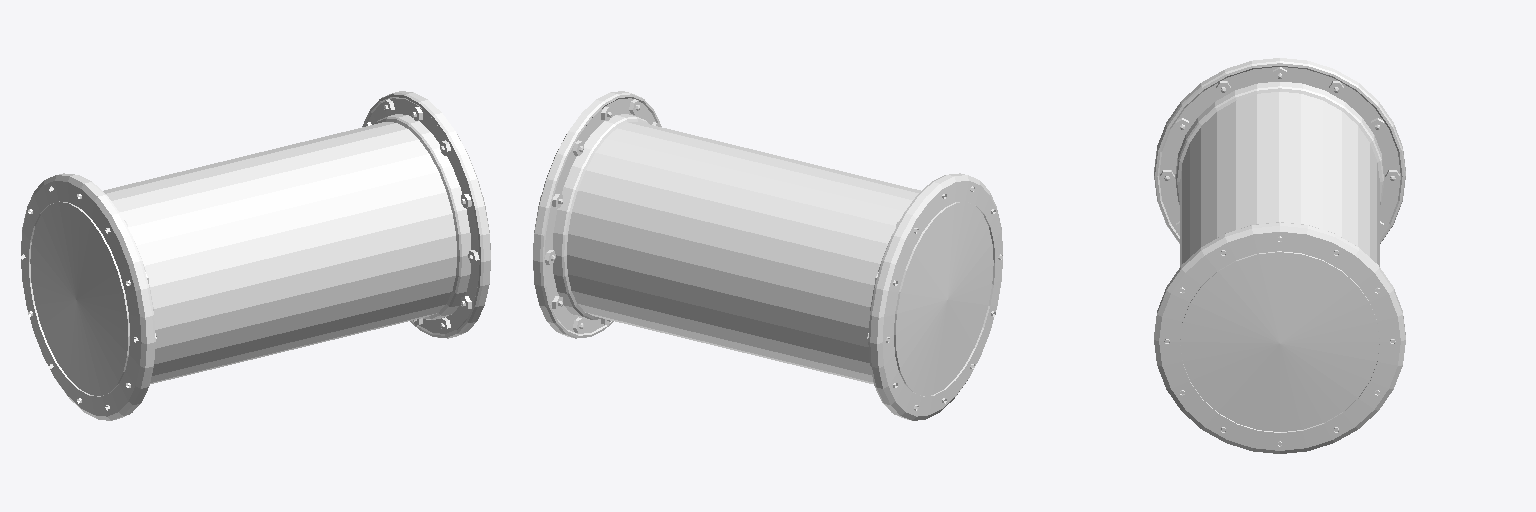
File: pipe_straight.obj
3 renders of one model, left to right at view 1: azimuth 30°, elevation 25°; view 2: azimuth 150°, elevation 25°; view 3: azimuth 270°, elevation 25°, orthographic.
Parts seen in each view (by area): view 1: ind_pipe_large_01_base_01_inst_001_Mesh; view 2: ind_pipe_large_01_base_01_inst_001_Mesh; view 3: ind_pipe_large_01_base_01_inst_001_Mesh.
Boxes of the visible parts, x1,y1,x2,y2 form: ind_pipe_large_01_base_01_inst_001_Mesh: [21, 91, 490, 420]; ind_pipe_large_01_base_01_inst_001_Mesh: [533, 91, 1002, 420]; ind_pipe_large_01_base_01_inst_001_Mesh: [1154, 58, 1405, 453].
Bounding box in the file's own units: 1.01 × 0.6153 × 0.6153.